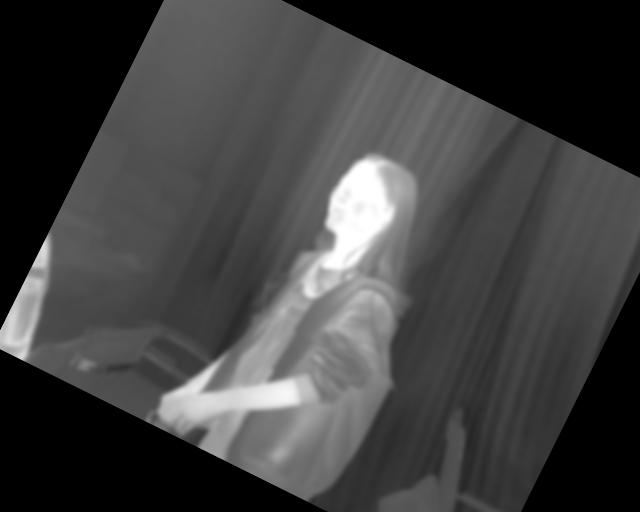face: (315, 140, 429, 261)
